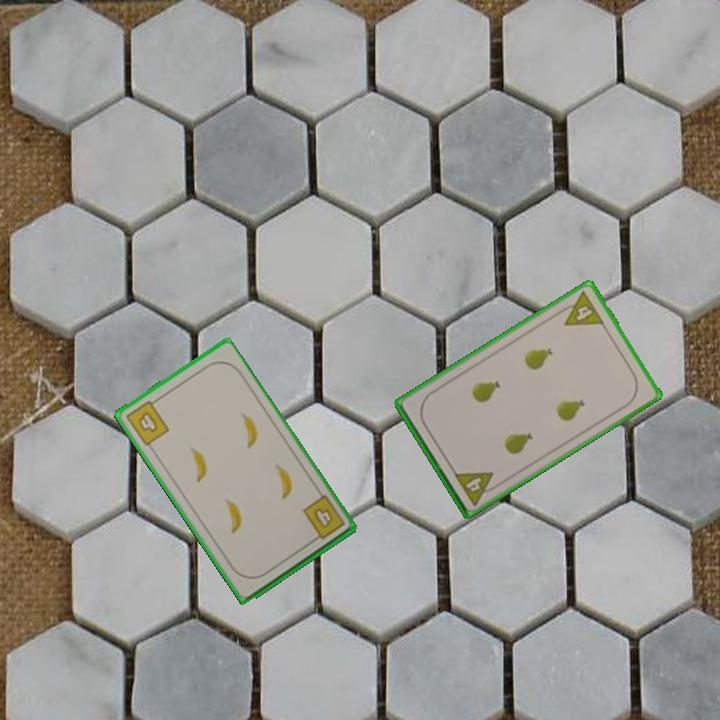4b: (122, 394, 172, 449), (299, 491, 347, 545)
4p: (554, 288, 607, 329), (450, 467, 502, 508)
